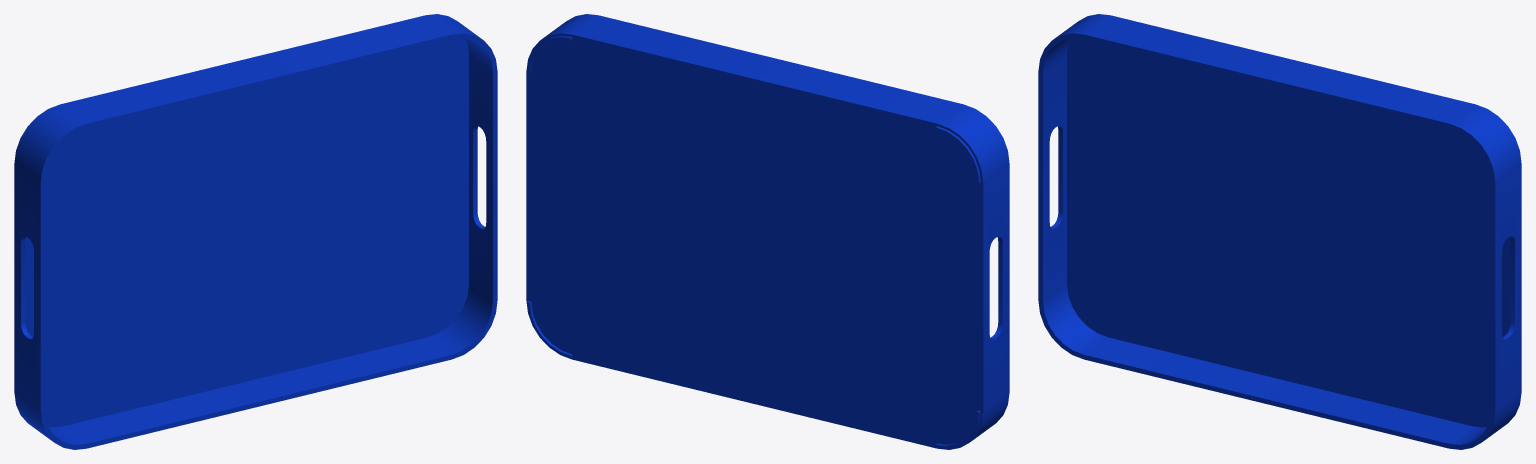
3 renders of one model, left to right at view 1: azimuth 30°, elevation 25°; view 2: azimuth 150°, elevation 25°; view 3: azimuth 330°, elevation 25°, orthographic.
Visible parts, largest first — view 1: Plane; view 2: Plane; view 3: Plane.
Part boxes in pixels (x1,y1,x2,y2): Plane: (14,14,497,449); Plane: (526,14,1009,449); Plane: (1038,14,1521,449).
Size of the model in its own units: 0.5 by 0.34 by 0.053.
